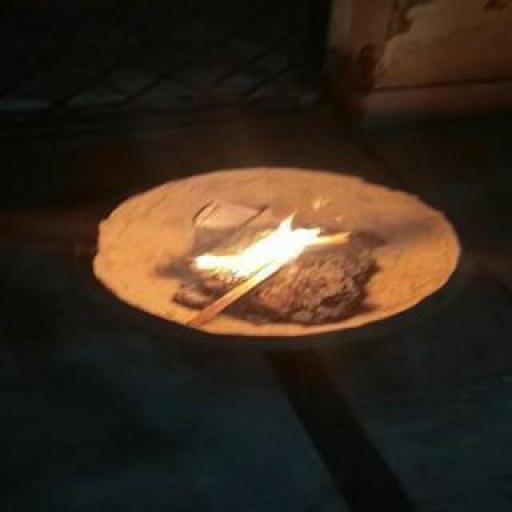smoke: (179, 200, 339, 293)
